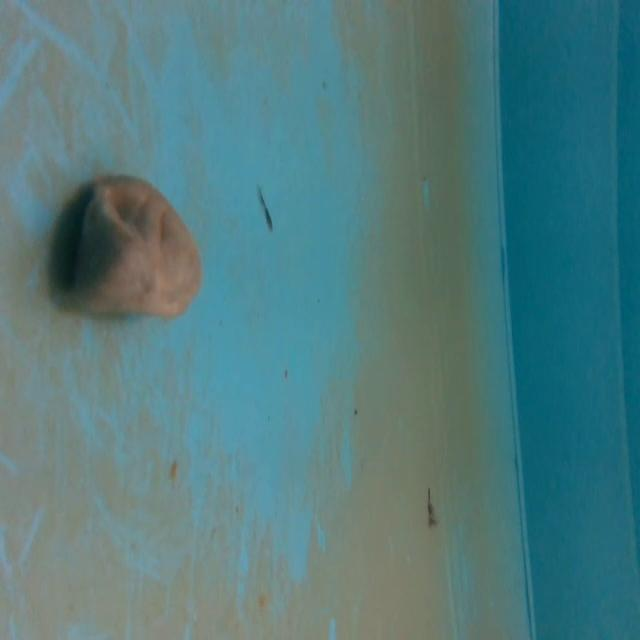rock: (57, 169, 211, 334)
